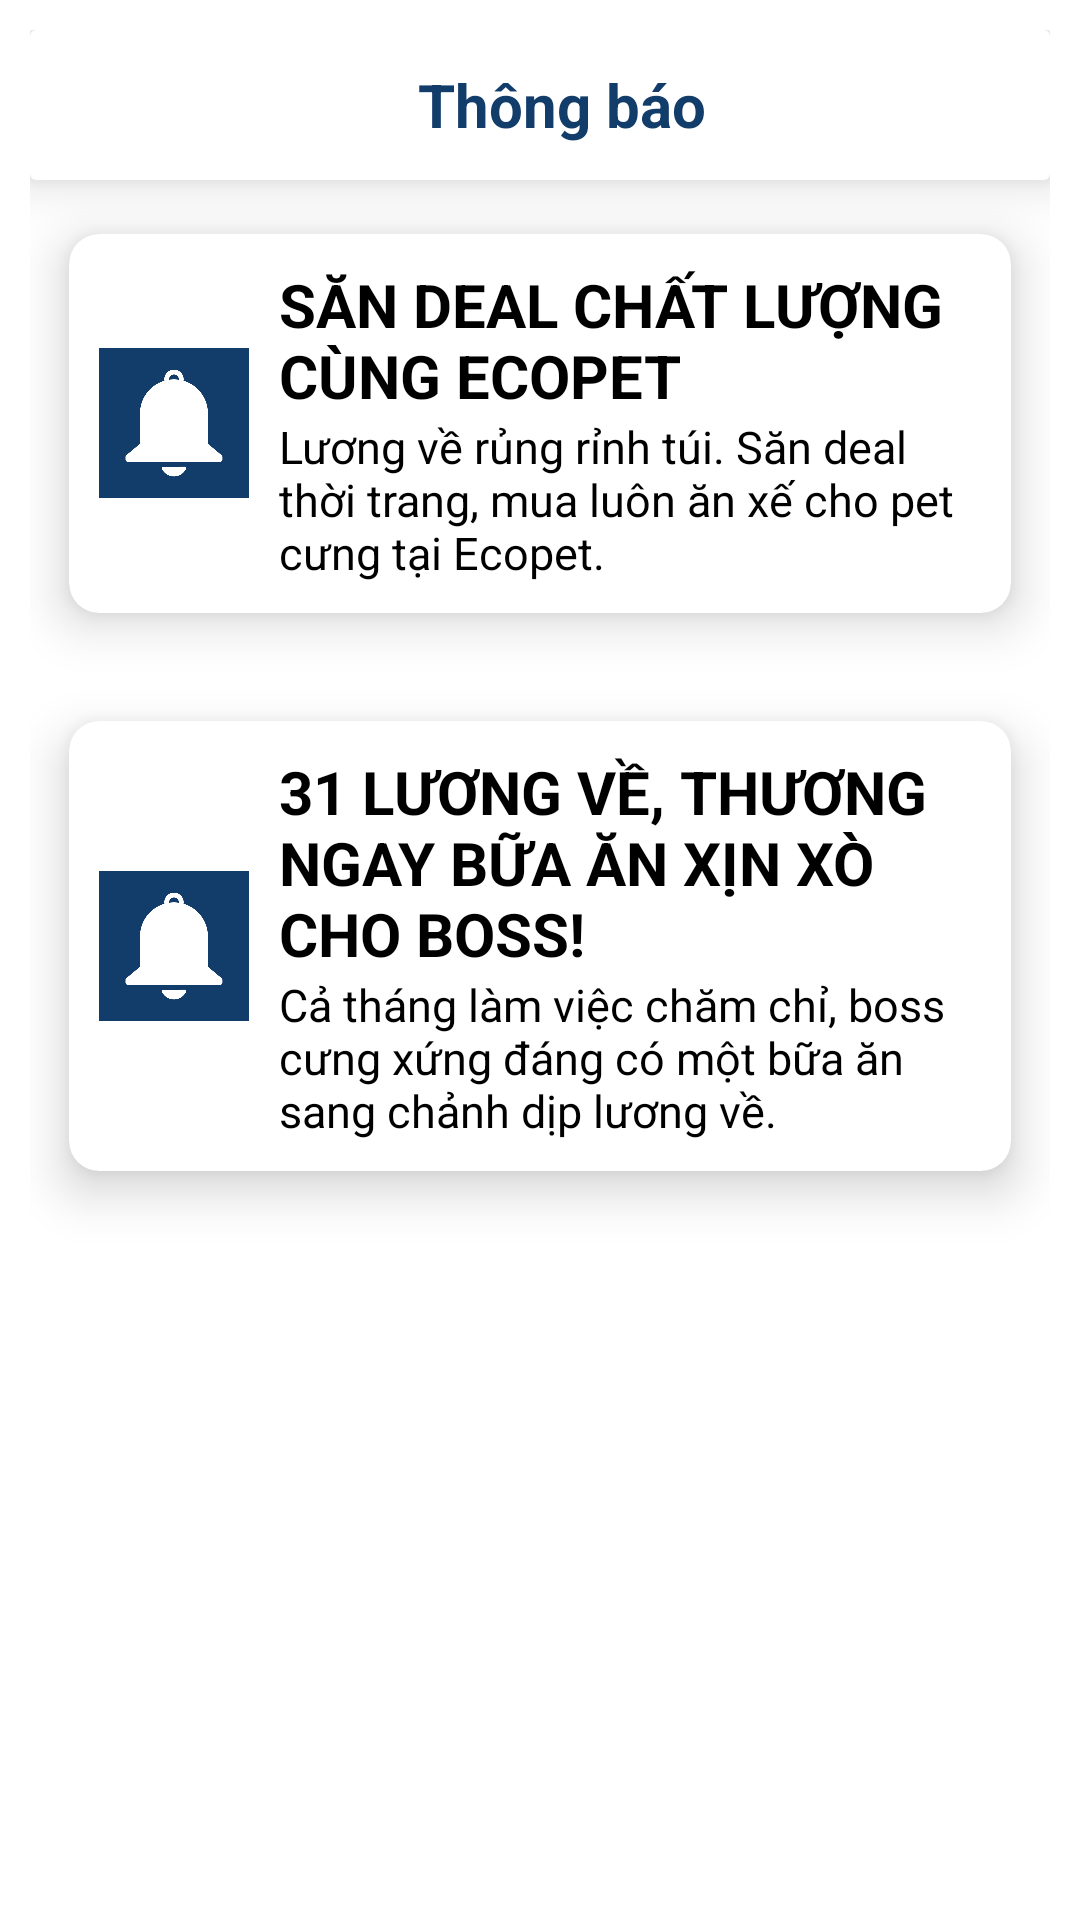

Icon click points for this 1080 × 1920 phone screenshot, format (x=x, y=y):
chuong: (x=174, y=423), (x=174, y=946)
